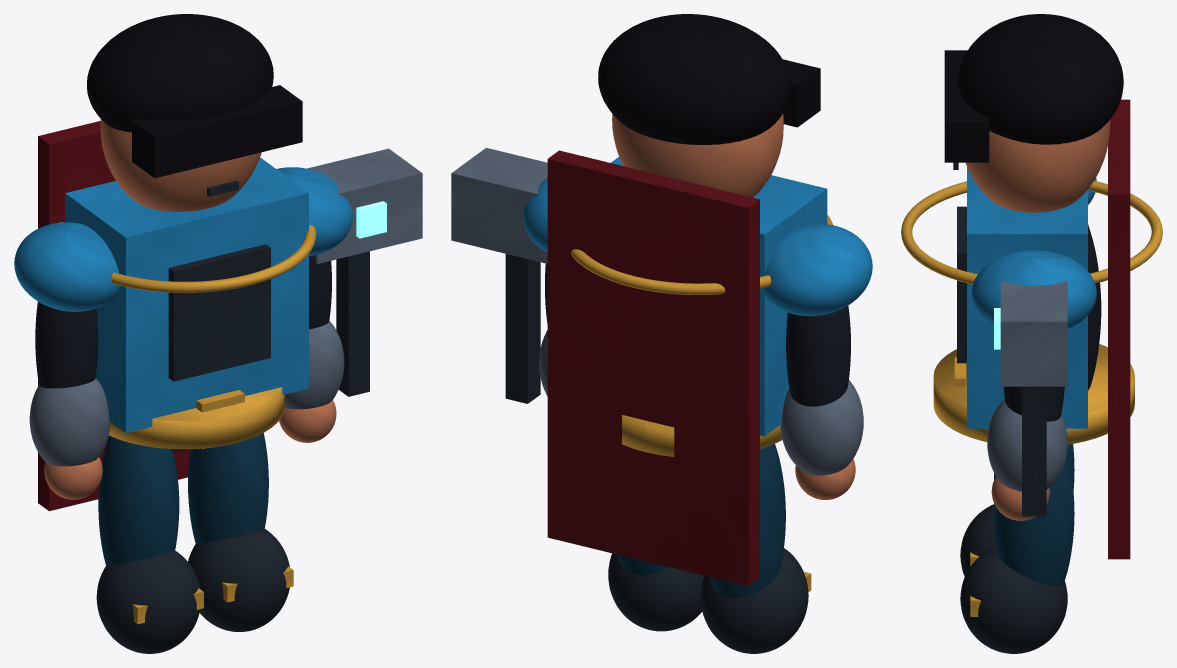
The model's file is Specialization.glb.
3 views of the same model, side by side, from view 1: azimuth 30°, elevation 25°; view 2: azimuth 150°, elevation 25°; view 3: azimuth 270°, elevation 25° (orthographic). The views are drawn at different scales.
Parts seen in each view (by area): view 1: ChestPlate, Hair, ChestInset, HairFringe, Leg, Boot, Boot.001, Leg.001, Shoulder, HammerHead, Cape, Head (+12 smaller); view 2: Cape, Hair, HammerHead, Shoulder, Head, ChestPlate, Boot, Arm, Gauntlet, HammerHandle, Boot.001, Leg (+5 smaller); view 3: Hair, ChestPlate, Cape, Head, Boot.001, HammerHead, Leg.001, Shoulder.001, WaistGuard, Gauntlet.001, HairFringe, ShoulderCrest (+6 smaller).
Boxes of the visible parts, x1,y1,x2,y2 form: ChestPlate: (65, 157, 308, 432); Hair: (87, 14, 273, 132); ChestInset: (168, 244, 270, 381); HairFringe: (132, 85, 302, 178); Leg: (98, 435, 179, 565); Boot: (96, 550, 200, 653); Boot.001: (188, 529, 289, 631); Leg.001: (188, 433, 268, 543); Shoulder: (14, 222, 119, 311); HammerHead: (307, 148, 422, 263); Cape: (38, 121, 190, 511); Head: (100, 119, 261, 211); Cape: (547, 150, 759, 586); Hair: (598, 14, 790, 144); HammerHead: (451, 147, 547, 263); Shoulder: (762, 224, 872, 316); Head: (612, 113, 783, 197); ChestPlate: (611, 157, 827, 436); Boot: (700, 548, 808, 653); Arm: (786, 306, 850, 406); Gauntlet: (780, 380, 863, 475); HammerHandle: (505, 254, 540, 403); Boot.001: (608, 553, 704, 631); Leg: (710, 444, 785, 597); Hair: (958, 14, 1123, 144); ChestPlate: (967, 167, 1087, 428); Cape: (1108, 99, 1130, 559); Head: (965, 119, 1110, 212); Boot.001: (960, 547, 1067, 653); HammerHead: (1000, 280, 1067, 386); Leg.001: (994, 454, 1074, 586); Shoulder.001: (971, 250, 1096, 328); WaistGuard: (933, 344, 1134, 444); Gauntlet.001: (987, 399, 1067, 491); HairFringe: (944, 50, 989, 162); ShoulderCrest: (901, 180, 1162, 284).
Bounding box in the file's own units: 1.96 × 2.96 × 1.17.
Materials: 12 (9 with a texture image).
